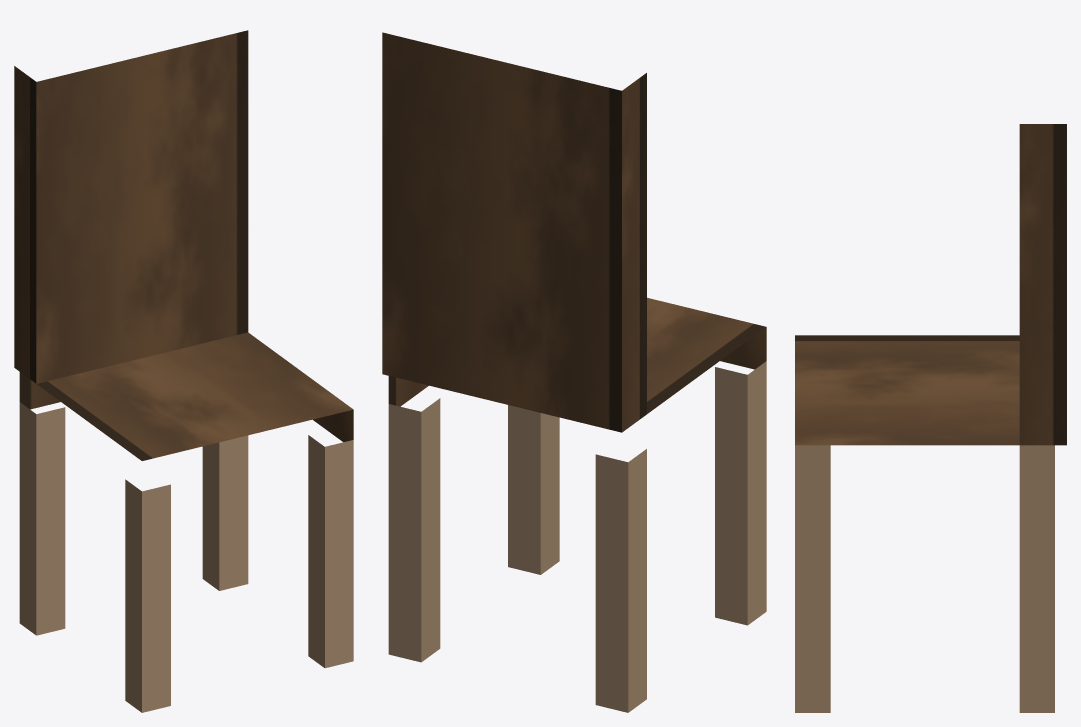
The model's file is prop_chair.glb.
3 views of the same model, side by side, from view 1: azimuth 30°, elevation 25°; view 2: azimuth 150°, elevation 25°; view 3: azimuth 270°, elevation 25° (orthographic). The views are drawn at different scales.
Visible parts, largest first — view 1: prop; view 2: prop; view 3: prop.
Boxes of the visible parts, x1=… form: prop: x1=14, y1=30, x2=353, y2=712; prop: x1=382, y1=32, x2=766, y2=712; prop: x1=795, y1=124, x2=1066, y2=712.
Size of the model in its own units: 0.44 by 1.1 by 0.46.
Materials: 6 (2 with a texture image).
